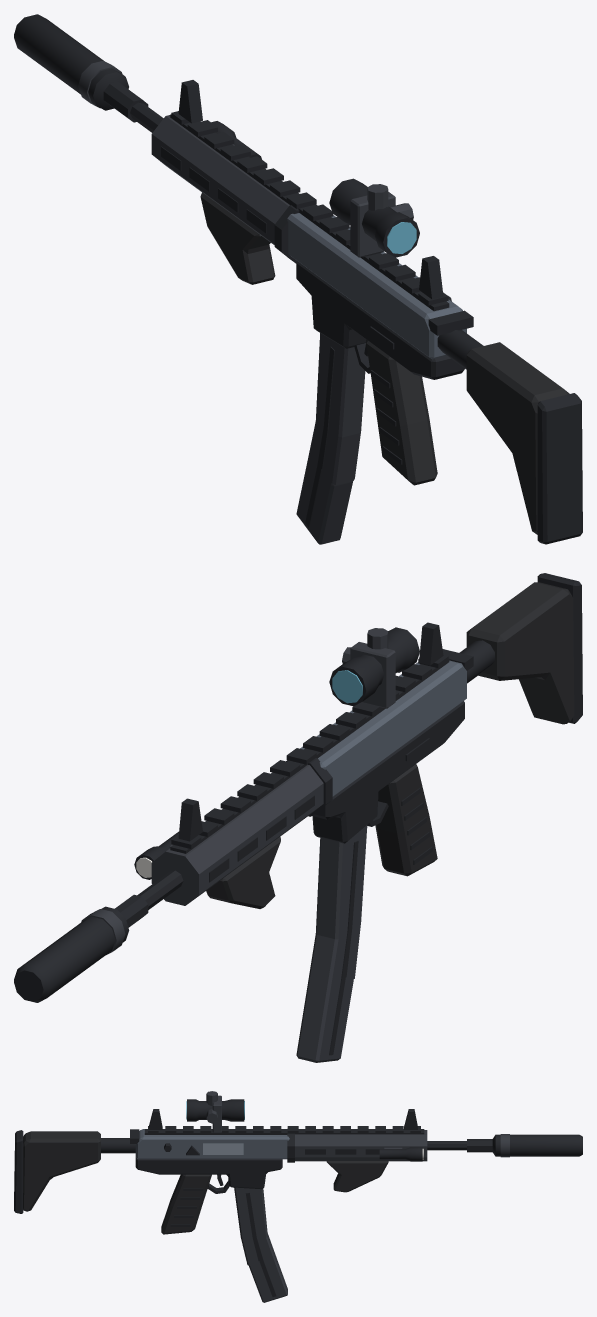
File: carbine.glb
The picture shows the model from 3 angles, top to bottom: view 1: azimuth 30°, elevation 25°; view 2: azimuth 150°, elevation 25°; view 3: azimuth 270°, elevation 25°; orthographic projection. The views are drawn at different scales.
Parts seen in each view (by area): view 1: Body, Att_ExtMag, Att_Scope, Att_Suppressor, Att_Grip, Mag; view 2: Body, Att_ExtMag, Att_Suppressor, Att_Scope, Att_Grip, Mag, Att_Flashlight; view 3: Body, Att_ExtMag, Att_Suppressor, Att_Scope, Att_Grip, Att_Flashlight, Mag.
Boxes of the visible parts, x1,y1,x2,y2 form: Body: [103, 80, 582, 544]; Att_ExtMag: [296, 333, 365, 544]; Att_Scope: [329, 178, 419, 257]; Att_Suppressor: [14, 14, 128, 110]; Att_Grip: [200, 192, 275, 284]; Mag: [309, 333, 360, 485]; Body: [115, 573, 582, 927]; Att_ExtMag: [296, 825, 367, 1062]; Att_Suppressor: [14, 906, 129, 1002]; Att_Scope: [329, 627, 419, 708]; Att_Grip: [206, 836, 280, 908]; Mag: [316, 828, 364, 979]; Att_Flashlight: [134, 831, 178, 879]; Body: [14, 1109, 492, 1234]; Att_ExtMag: [234, 1187, 287, 1302]; Att_Suppressor: [492, 1134, 582, 1157]; Att_Scope: [186, 1091, 244, 1132]; Att_Grip: [326, 1161, 388, 1192]; Att_Flashlight: [379, 1147, 423, 1161]; Mag: [234, 1187, 266, 1265].
Size of the model in its own units: 0.0747 by 0.3919 by 0.976.
